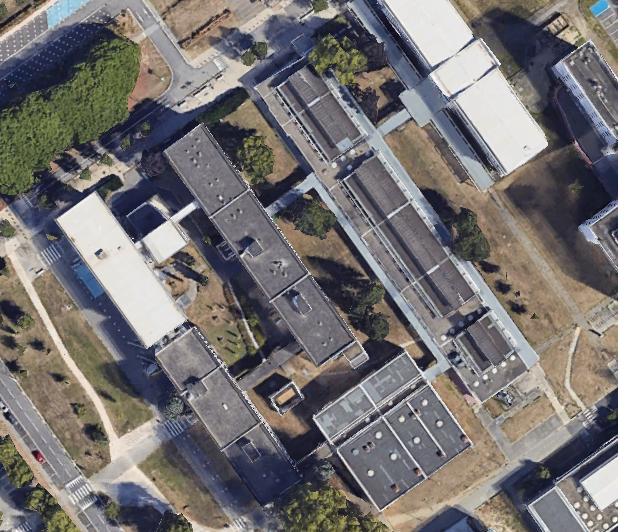immeuble: (253, 58, 532, 409), (162, 122, 356, 371), (379, 0, 552, 182), (153, 327, 304, 507), (310, 351, 472, 513), (54, 191, 185, 349), (528, 436, 617, 531), (550, 39, 618, 148), (579, 198, 617, 271)
